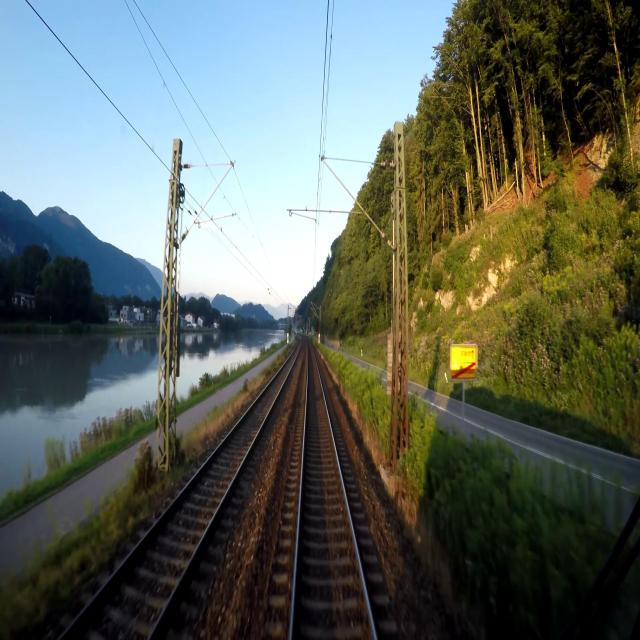rail-track: (61, 346, 298, 639), (293, 344, 372, 639)
